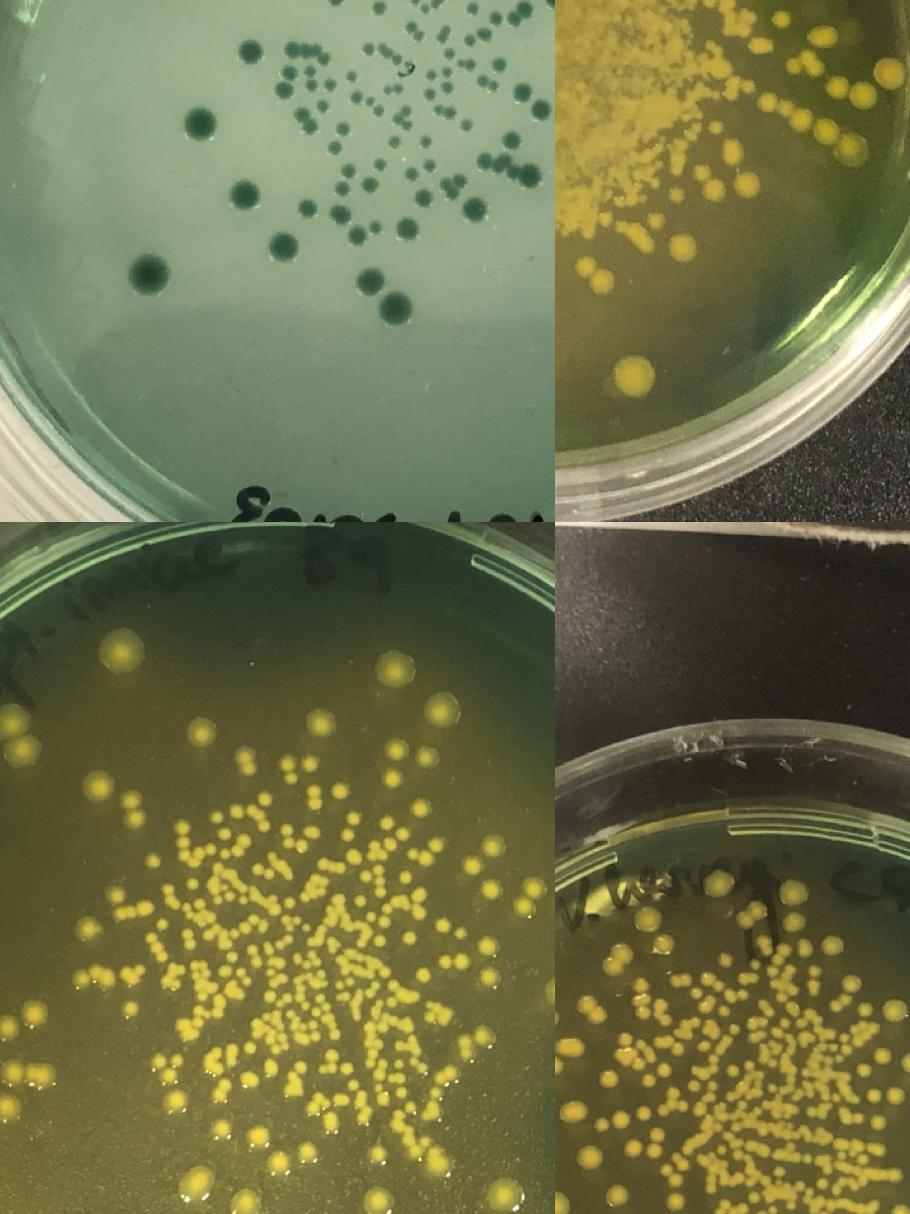pddamselae: (477, 153, 544, 188), (378, 290, 414, 328), (227, 177, 263, 214), (284, 40, 333, 67), (132, 258, 168, 294), (265, 229, 301, 265), (182, 108, 218, 144), (362, 40, 404, 67), (349, 90, 386, 118), (438, 174, 467, 201), (358, 268, 384, 296), (506, 1, 533, 27), (394, 217, 420, 243), (462, 197, 488, 223), (237, 38, 262, 64), (296, 108, 319, 136), (463, 26, 492, 48), (392, 104, 414, 130), (432, 104, 458, 122), (476, 73, 499, 93), (302, 65, 319, 92), (407, 0, 439, 14), (405, 20, 425, 42), (347, 226, 367, 246), (330, 204, 350, 224), (299, 198, 319, 218), (380, 82, 404, 96), (435, 25, 452, 44), (327, 139, 343, 156), (335, 120, 352, 136), (276, 81, 292, 98), (335, 180, 351, 196), (504, 132, 520, 148), (534, 102, 550, 118), (515, 84, 531, 100), (371, 0, 387, 16), (342, 162, 357, 179), (418, 190, 433, 206), (363, 176, 378, 192), (488, 10, 503, 26), (460, 118, 474, 134), (281, 66, 297, 80), (491, 58, 507, 72), (373, 158, 387, 173), (422, 158, 436, 173), (405, 168, 419, 182), (422, 88, 436, 102), (324, 78, 338, 92), (424, 69, 438, 83), (444, 47, 458, 61), (419, 136, 432, 150), (317, 100, 330, 114), (440, 82, 453, 96), (467, 1, 480, 15), (390, 136, 402, 150), (344, 69, 356, 83), (442, 65, 454, 79), (464, 58, 476, 72), (432, 0, 446, 5)
sinniae: (390, 1100, 454, 1181), (362, 1036, 429, 1099), (176, 821, 252, 863), (94, 626, 148, 677), (0, 705, 41, 768), (298, 992, 334, 1044), (376, 650, 416, 690), (274, 914, 314, 952), (486, 1178, 524, 1214), (0, 1062, 57, 1086), (365, 894, 404, 929), (148, 1051, 184, 1086), (186, 714, 220, 750), (291, 948, 329, 980), (82, 770, 116, 805), (305, 706, 339, 741), (230, 912, 270, 941), (181, 1166, 215, 1200), (426, 694, 460, 728), (70, 966, 115, 990), (358, 864, 388, 900), (361, 1184, 396, 1214), (229, 1186, 266, 1214), (429, 1066, 458, 1098), (122, 792, 146, 829), (218, 964, 254, 988), (280, 824, 309, 852), (22, 999, 50, 1027), (244, 804, 272, 832), (210, 890, 250, 908), (0, 1093, 22, 1125), (180, 896, 206, 923), (108, 886, 128, 921), (159, 962, 181, 992), (278, 754, 298, 786), (266, 1150, 290, 1176), (0, 1014, 22, 1042), (480, 877, 504, 902), (120, 963, 146, 986), (164, 1088, 188, 1112), (76, 917, 100, 941), (523, 875, 547, 899), (381, 768, 405, 792), (416, 746, 440, 770), (385, 739, 409, 763), (210, 1080, 232, 1106), (405, 846, 433, 866), (461, 853, 484, 877), (482, 834, 505, 858), (244, 942, 264, 969), (283, 890, 311, 909), (385, 988, 409, 1010), (409, 796, 433, 818), (210, 1042, 239, 1059), (145, 931, 165, 955), (363, 978, 382, 1002), (252, 862, 276, 881), (332, 976, 357, 993), (311, 1092, 332, 1112), (368, 1145, 388, 1165), (240, 1070, 260, 1090), (473, 1026, 493, 1046), (120, 999, 140, 1019), (330, 782, 350, 802), (302, 754, 322, 774), (266, 892, 282, 916), (249, 1127, 268, 1147), (478, 937, 498, 956), (143, 851, 163, 870), (234, 746, 254, 765), (308, 784, 322, 811), (298, 1144, 318, 1162), (213, 1120, 233, 1138), (356, 1106, 374, 1126), (181, 928, 196, 952), (516, 900, 534, 920), (365, 839, 380, 863), (192, 1006, 206, 1030), (323, 1112, 338, 1134), (251, 1017, 264, 1040), (547, 974, 555, 1007), (354, 892, 368, 907), (211, 860, 225, 875), (333, 860, 347, 875), (218, 827, 232, 842), (426, 1105, 440, 1119), (294, 1060, 308, 1074), (461, 1048, 475, 1062), (243, 1041, 257, 1055), (392, 1038, 406, 1052), (276, 1031, 290, 1045), (283, 1006, 297, 1020), (263, 988, 277, 1002), (188, 958, 202, 972), (438, 956, 452, 970), (354, 936, 368, 950), (403, 931, 417, 945), (454, 927, 468, 941), (436, 920, 450, 934), (412, 907, 426, 921), (332, 892, 346, 906), (412, 888, 426, 902), (162, 882, 176, 896), (186, 878, 200, 892), (317, 857, 331, 871), (265, 850, 279, 864), (384, 839, 398, 853), (429, 838, 443, 852), (341, 828, 355, 842), (306, 825, 320, 839), (380, 817, 394, 831), (210, 811, 224, 825), (258, 792, 272, 806), (396, 827, 409, 842), (329, 1027, 342, 1041), (226, 950, 239, 964), (398, 871, 411, 885), (206, 978, 218, 993), (418, 969, 430, 984), (336, 1094, 350, 1106), (348, 1078, 360, 1092), (341, 1062, 355, 1074), (326, 1048, 338, 1062), (282, 990, 294, 1004), (263, 966, 277, 978), (378, 966, 392, 978), (374, 934, 386, 948), (202, 928, 214, 942), (156, 918, 168, 932), (346, 850, 358, 864), (348, 812, 360, 826), (230, 806, 242, 818)
vharveyi: (827, 973, 875, 1019), (756, 94, 814, 130), (826, 77, 876, 110), (615, 356, 656, 396), (622, 1126, 666, 1162), (600, 939, 637, 980), (555, 1035, 587, 1080), (690, 163, 726, 200), (576, 992, 609, 1028), (784, 49, 824, 78), (656, 1086, 691, 1118), (776, 877, 812, 906), (592, 1107, 632, 1133), (864, 1082, 906, 1106), (733, 902, 769, 930), (625, 222, 655, 254), (632, 904, 664, 934), (572, 1144, 606, 1172), (703, 870, 735, 898), (556, 1100, 590, 1126), (880, 996, 910, 1025), (586, 266, 614, 294), (736, 170, 764, 198), (838, 136, 866, 164), (812, 119, 840, 147), (876, 59, 904, 87), (671, 231, 699, 258), (605, 1182, 632, 1210), (808, 26, 842, 48), (659, 1162, 685, 1190), (819, 934, 848, 958), (650, 934, 678, 958), (829, 1032, 854, 1058), (782, 910, 806, 935), (595, 1066, 619, 1090), (648, 208, 670, 232), (666, 186, 688, 208), (721, 142, 743, 164), (704, 116, 726, 138), (748, 34, 770, 56), (771, 8, 793, 30), (664, 1192, 686, 1214), (872, 1044, 894, 1066), (668, 972, 694, 990), (555, 1190, 572, 1214), (715, 950, 735, 970), (633, 1005, 652, 1025), (633, 974, 652, 994), (870, 1112, 888, 1132), (635, 1104, 653, 1124), (855, 1060, 875, 1078), (898, 1048, 910, 1075), (616, 1032, 634, 1048), (642, 1072, 656, 1090), (716, 1003, 730, 1020), (814, 1176, 830, 1190), (687, 1079, 703, 1093), (892, 1202, 910, 1214), (726, 1062, 738, 1080), (772, 1164, 787, 1178), (715, 1144, 729, 1158), (697, 1040, 711, 1054), (728, 1022, 742, 1036), (736, 988, 750, 1002), (690, 986, 704, 1000), (766, 964, 780, 978), (658, 1062, 670, 1078), (632, 1056, 644, 1072), (711, 980, 725, 993), (749, 958, 762, 972), (743, 1058, 755, 1072), (779, 1017, 791, 1030), (757, 998, 769, 1011), (748, 1192, 760, 1204), (766, 1083, 778, 1095), (776, 992, 788, 1004), (767, 1204, 779, 1214)
